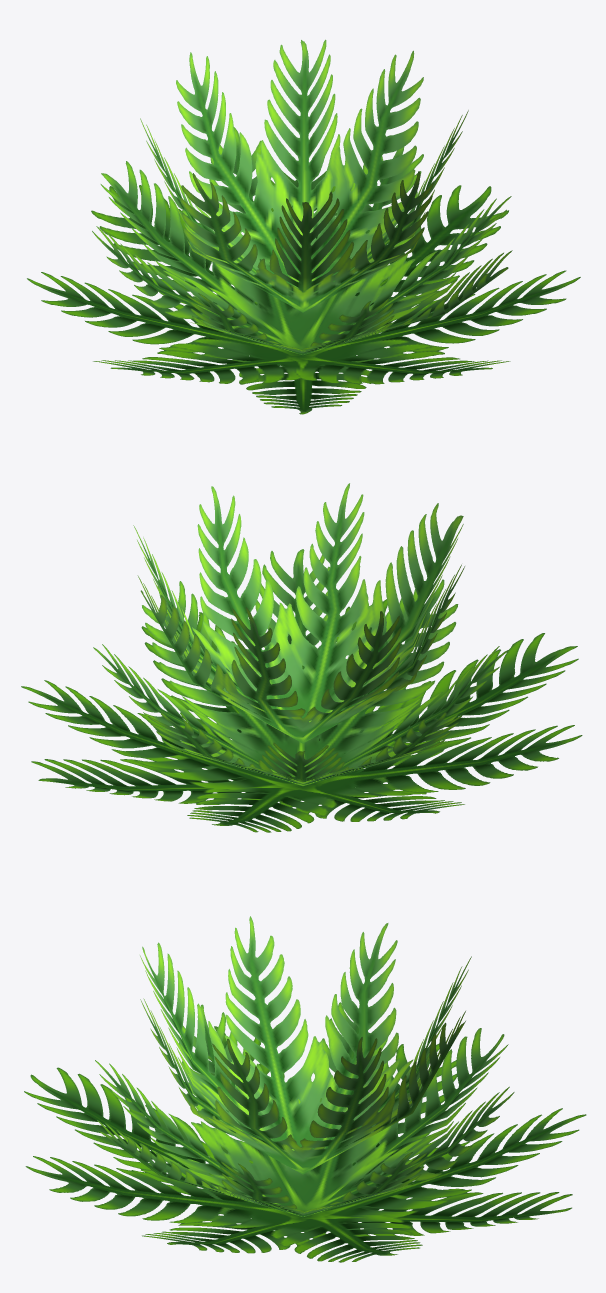
File: Coral_32.FBX
The picture shows the model from 3 angles, top to bottom: view 1: azimuth 30°, elevation 25°; view 2: azimuth 150°, elevation 25°; view 3: azimuth 270°, elevation 25°; orthographic projection.
Parts seen in each view (by area): view 1: Coral_32; view 2: Coral_32; view 3: Coral_32.
Boxes of the visible parts, x1,y1,x2,y2 form: Coral_32: (27, 39, 580, 414); Coral_32: (21, 483, 582, 832); Coral_32: (24, 916, 586, 1262).
Size of the model in its own units: 60.24 by 25.54 by 52.17.
